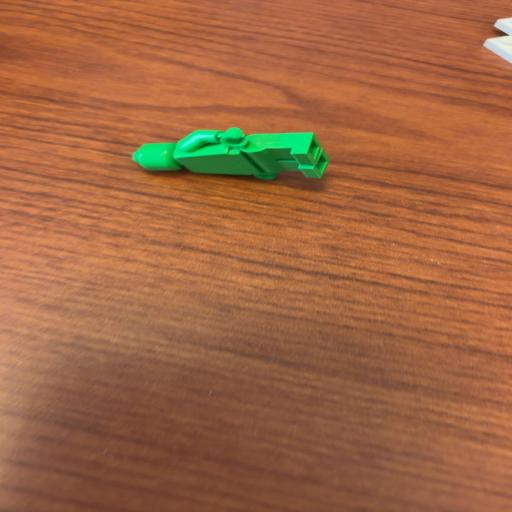UnoQ-minifig-detector: (134, 128, 329, 179)
